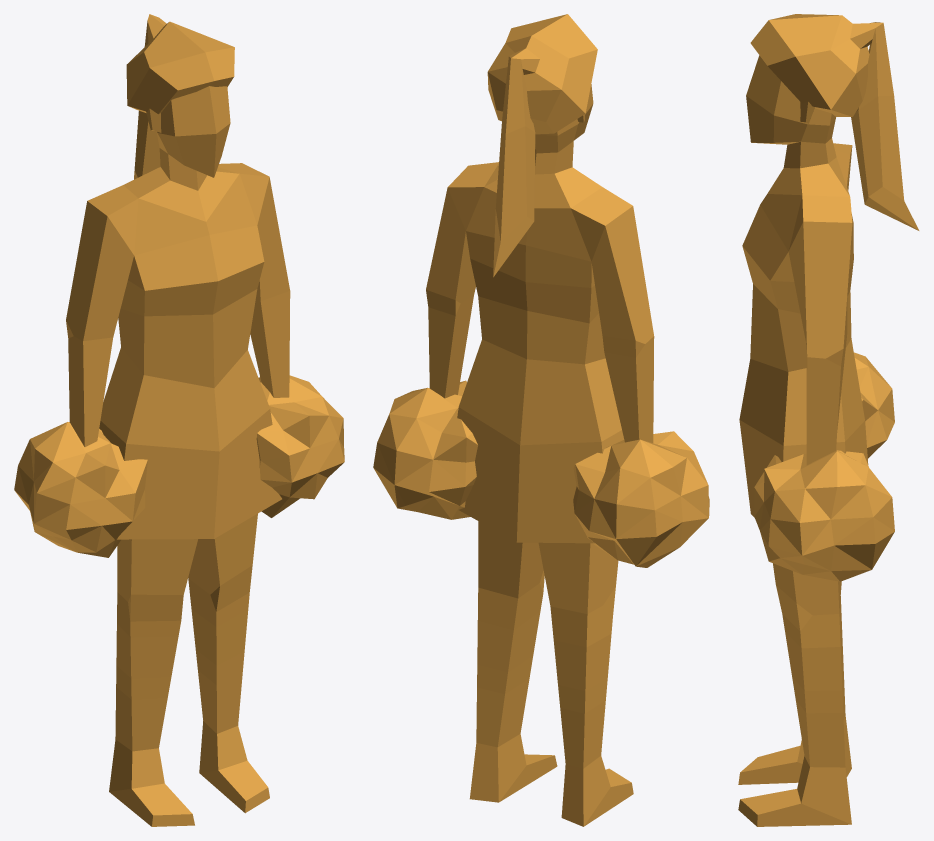
File: woman-cheerleader.fbx
3 renders of one model, left to right at view 1: azimuth 30°, elevation 25°; view 2: azimuth 150°, elevation 25°; view 3: azimuth 270°, elevation 25°, orthographic. The views are drawn at different scales.
Parts seen in each view (by area): view 1: woman-cheerleader; view 2: woman-cheerleader; view 3: woman-cheerleader.
Boxes of the visible parts, <box> form: woman-cheerleader: <box>14,14,344,826</box>; woman-cheerleader: <box>373,14,709,826</box>; woman-cheerleader: <box>738,14,919,826</box>.
Size of the model in its own units: 0.7892 by 1.85 by 0.3887.
